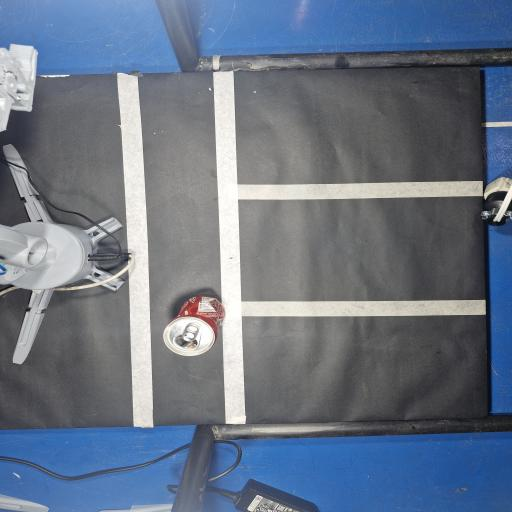lata_defectuoso: (163, 296, 225, 356)
